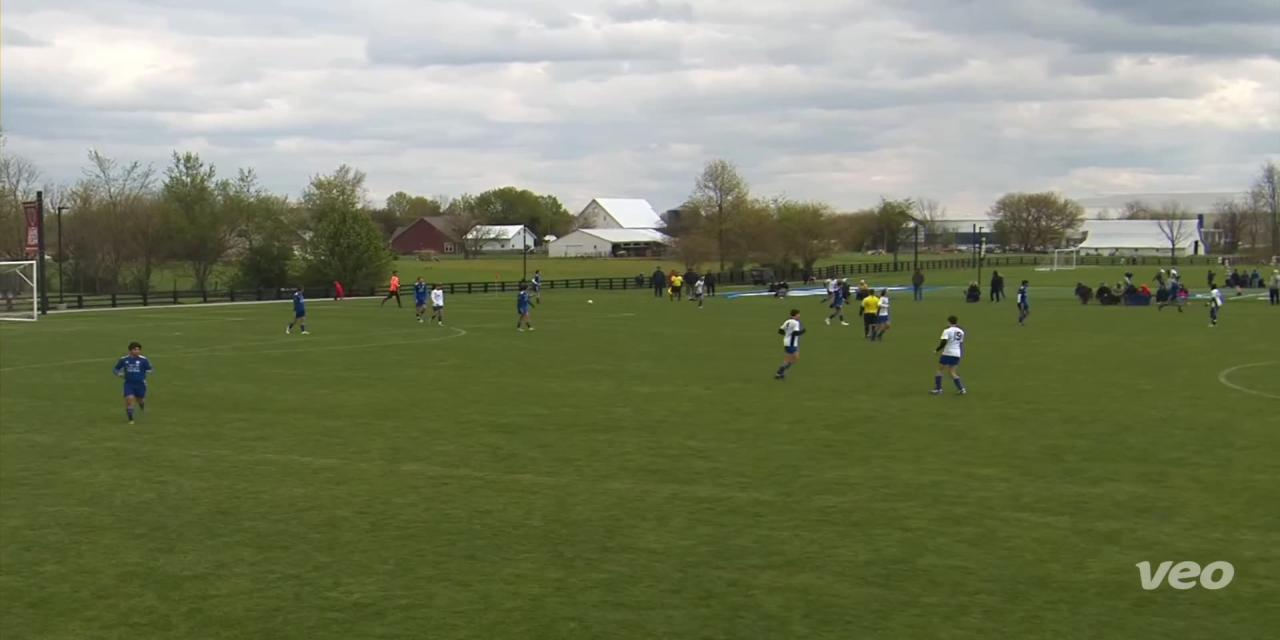goal: (2, 255, 48, 333)
sports ball: (580, 292, 603, 309)
